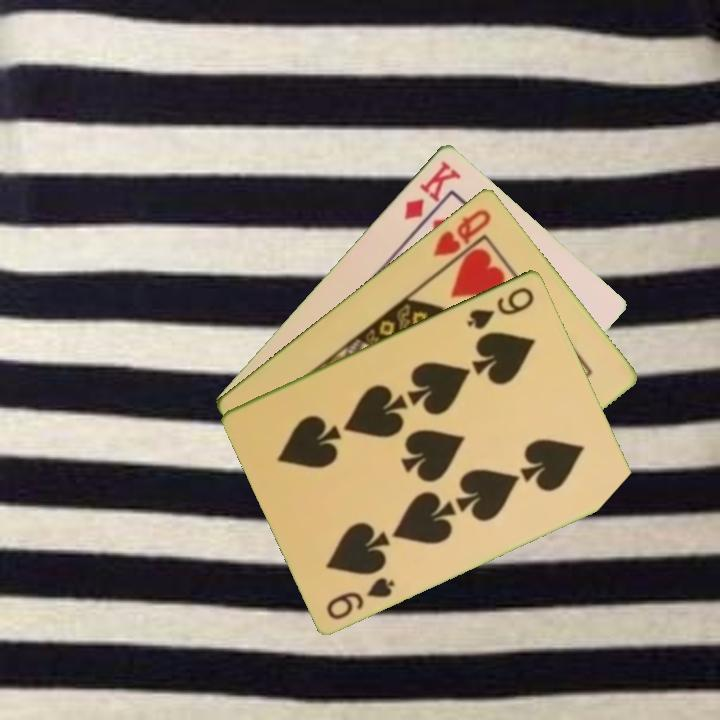9s: (463, 282, 538, 332), (323, 573, 398, 622)
Kd: (400, 156, 464, 222)
Qh: (429, 204, 495, 259)
